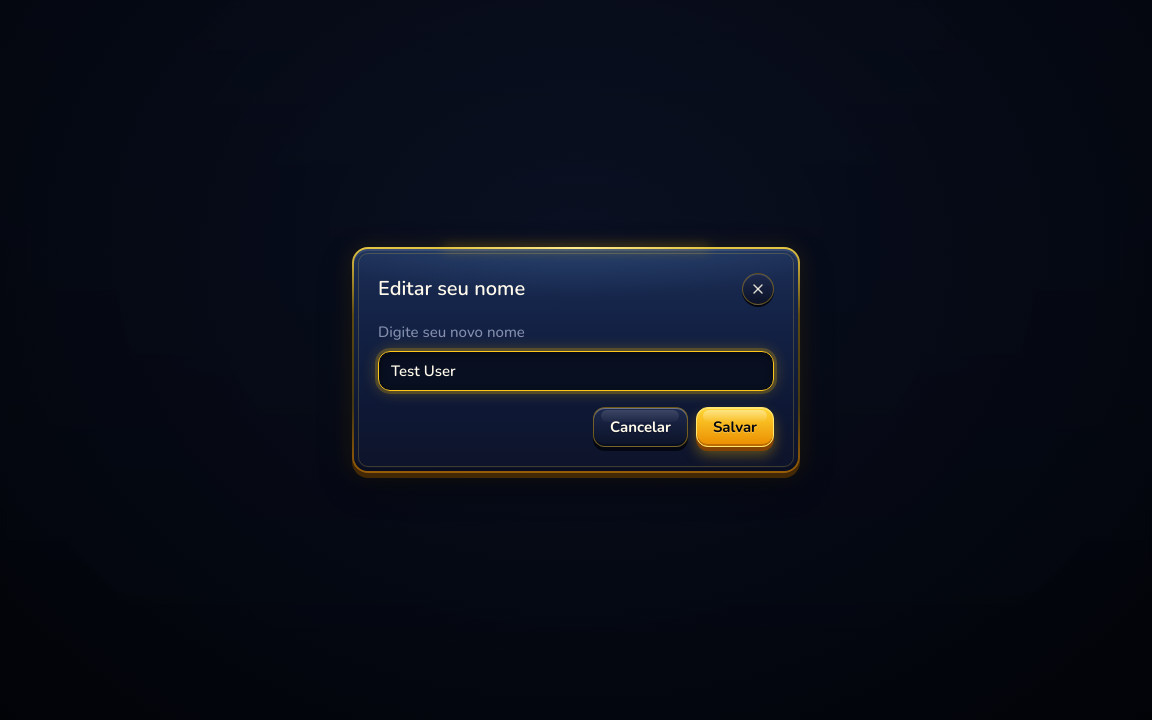
Scenario: EditNameDialog › save button is disabled when name is empty
This screenshot has width=1152, height=720.
Clear the field at {"x": 576, "y": 371}, box [378, 351, 774, 391]
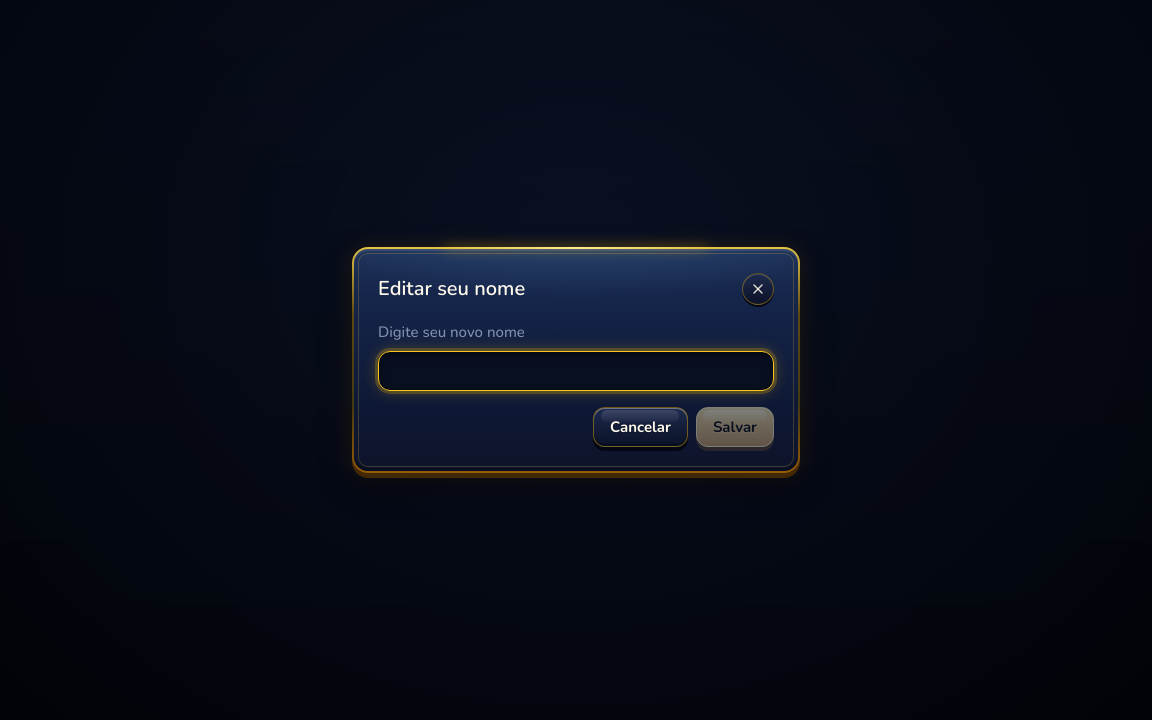
Check: the button "Salvar" is disabled, box [696, 407, 774, 447]
